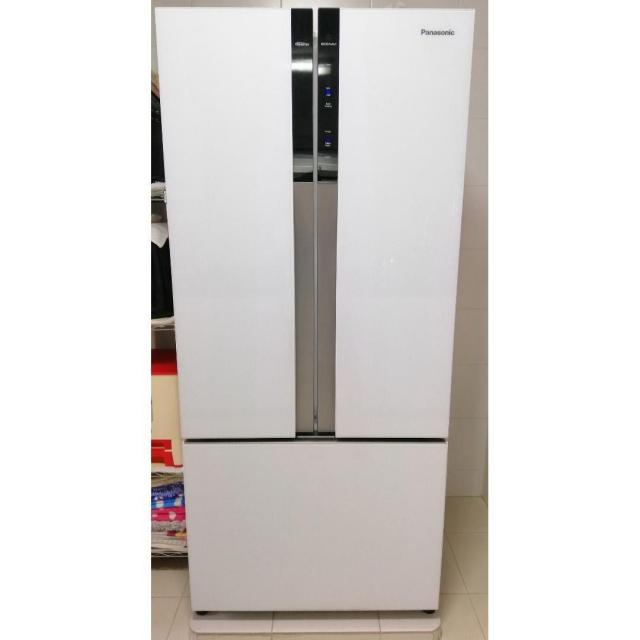refrigerator: (156, 6, 473, 612)
